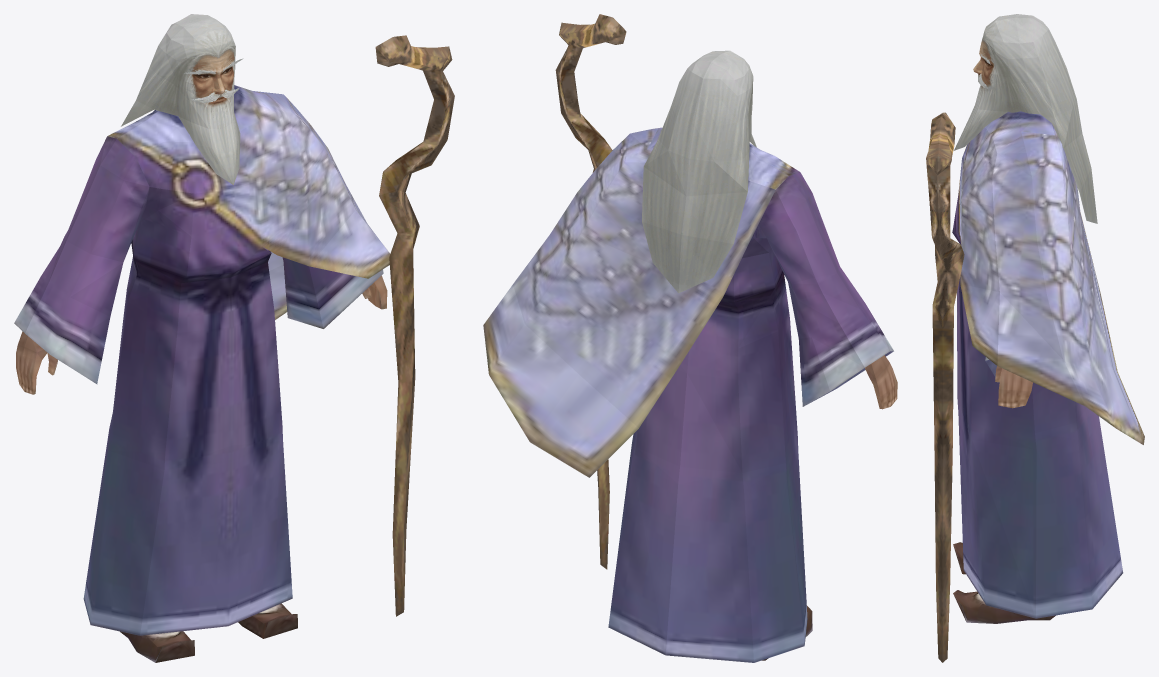
File: npc_wise.glb
The picture shows the model from 3 angles, left to right: view 1: azimuth 30°, elevation 25°; view 2: azimuth 150°, elevation 25°; view 3: azimuth 270°, elevation 25°; orthographic projection. The views are drawn at different scales.
Parts seen in each view (by area): view 1: Object_4, Object_6; view 2: Object_4, Object_6; view 3: Object_4, Object_6.
Part boxes in pixels (x1,y1,x2,y2): Object_4: (14, 85, 390, 662); Object_6: (121, 14, 454, 616); Object_4: (483, 127, 897, 662); Object_6: (555, 14, 756, 569); Object_4: (952, 111, 1144, 623); Object_6: (926, 14, 1097, 662).
Bounding box in the file's own units: 1.22 × 1.8 × 0.6245.
Materials: 2 (2 with a texture image).
